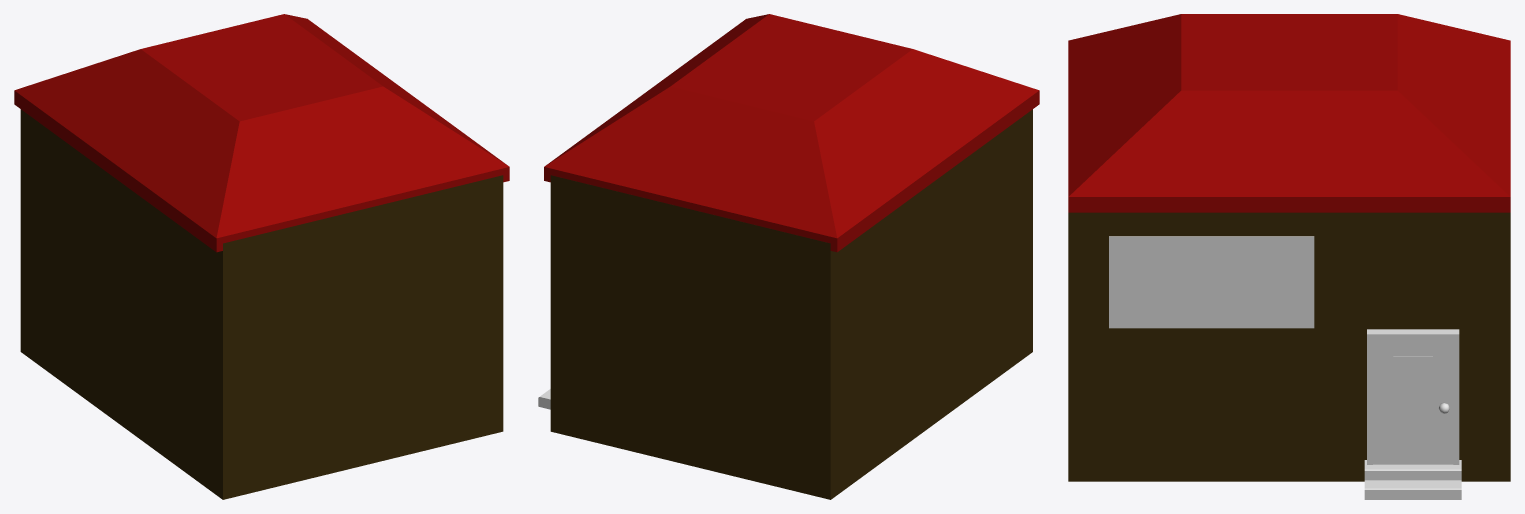
Rendered from Huis8.fbx.
3 views of the same model, side by side, from view 1: azimuth 30°, elevation 25°; view 2: azimuth 150°, elevation 25°; view 3: azimuth 270°, elevation 25° (orthographic). The views are drawn at different scales.
Visible parts, largest first — view 1: Cube.048, Cube.049; view 2: Cube.048, Cube.049; view 3: Cube.048, Cube.049, Plane.014, Cube.052, Plane.015, Cube.051, Cube.050.
Part boxes in pixels (bbox=[...]): Cube.048: bbox=[20, 109, 503, 499]; Cube.049: bbox=[14, 14, 509, 252]; Cube.048: bbox=[550, 109, 1032, 499]; Cube.049: bbox=[544, 14, 1039, 252]; Cube.048: bbox=[1068, 212, 1510, 481]; Cube.049: bbox=[1068, 14, 1510, 212]; Plane.014: bbox=[1109, 236, 1314, 328]; Cube.052: bbox=[1373, 339, 1453, 464]; Plane.015: bbox=[1393, 356, 1432, 454]; Cube.051: bbox=[1364, 460, 1461, 499]; Cube.050: bbox=[1367, 329, 1459, 464].
Size of the model in its own units: 183 by 177 by 200.
